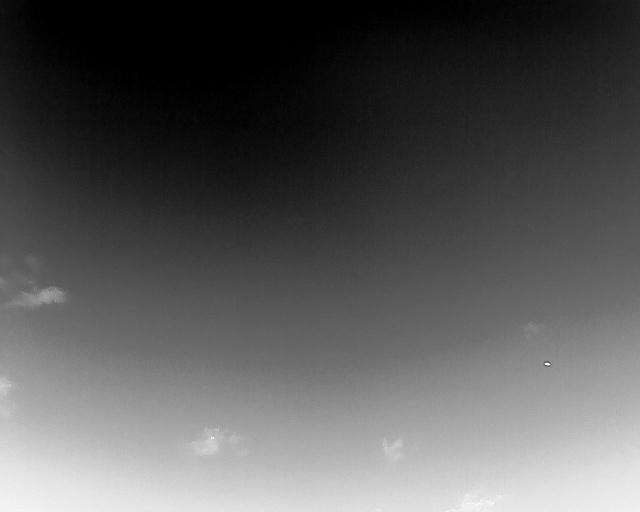fpv-drone: (543, 361, 551, 367)
